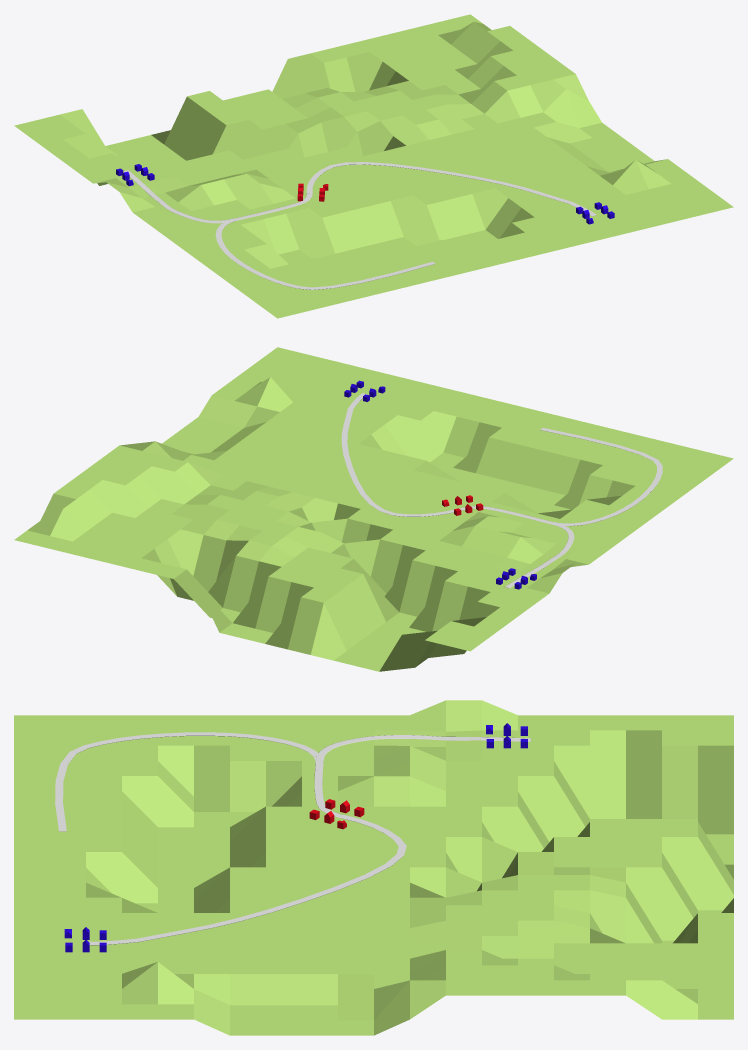
3 views of the same model, one above another, from view 1: azimuth 30°, elevation 25°; view 2: azimuth 150°, elevation 25°; view 3: azimuth 270°, elevation 25° (orthographic). The views are drawn at different scales.
Parts seen in each view (by area): view 1: Test, R_N_Village_1__N_Village_2, R_N_Junction_01__N_Village_03, R_N_Junction_01__N_Village_04; view 2: Test, R_N_Village_1__N_Village_2, R_N_Junction_01__N_Village_03; view 3: Test, R_N_Village_1__N_Village_2, R_N_Junction_01__N_Village_03, R_N_Junction_01__N_Village_04.
Boxes of the visible parts, left/top/right/bottom form: Test: left=14, top=14, right=733, bottom=318; R_N_Village_1__N_Village_2: left=306, top=162, right=596, bottom=216; R_N_Junction_01__N_Village_03: left=215, top=218, right=435, bottom=289; R_N_Junction_01__N_Village_04: left=123, top=170, right=236, bottom=223; Test: left=14, top=347, right=733, bottom=671; R_N_Village_1__N_Village_2: left=341, top=393, right=462, bottom=516; R_N_Junction_01__N_Village_03: left=540, top=428, right=662, bottom=526; Test: left=14, top=700, right=733, bottom=1035; R_N_Village_1__N_Village_2: left=89, top=815, right=406, bottom=945; R_N_Junction_01__N_Village_03: left=55, top=732, right=323, bottom=831; R_N_Junction_01__N_Village_04: left=316, top=735, right=531, bottom=761.
Size of the model in its own units: 200 by 26.21 by 200.
